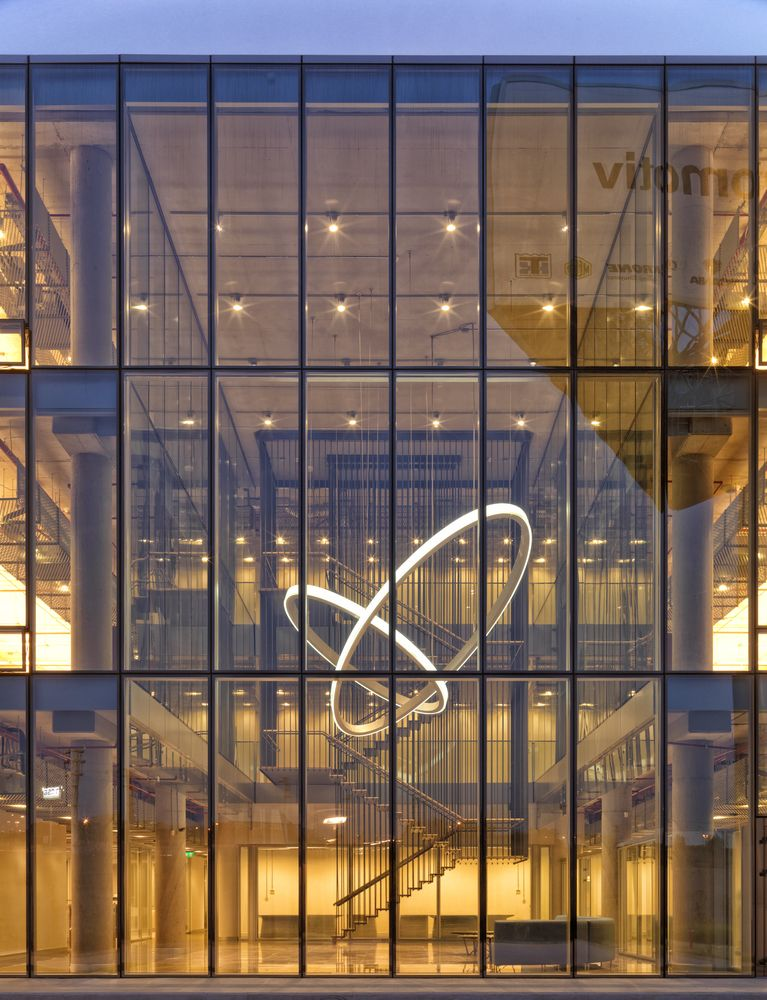glass panel: (124, 679, 246, 974), (286, 376, 390, 670), (486, 66, 586, 365), (469, 679, 569, 974), (301, 676, 391, 974), (575, 66, 662, 365), (667, 66, 753, 367), (122, 65, 207, 365), (304, 66, 389, 365), (213, 66, 298, 364), (575, 376, 661, 670), (667, 677, 752, 974), (32, 65, 116, 365), (575, 679, 660, 975), (395, 66, 479, 365), (33, 676, 117, 974), (395, 677, 479, 975), (124, 375, 209, 669), (33, 372, 116, 670), (215, 679, 299, 973), (395, 376, 479, 670), (485, 374, 568, 670), (216, 375, 299, 669), (667, 374, 749, 670), (0, 169, 26, 666), (0, 678, 27, 974), (0, 65, 25, 359), (754, 67, 766, 367), (755, 375, 766, 668), (756, 635, 766, 817)
